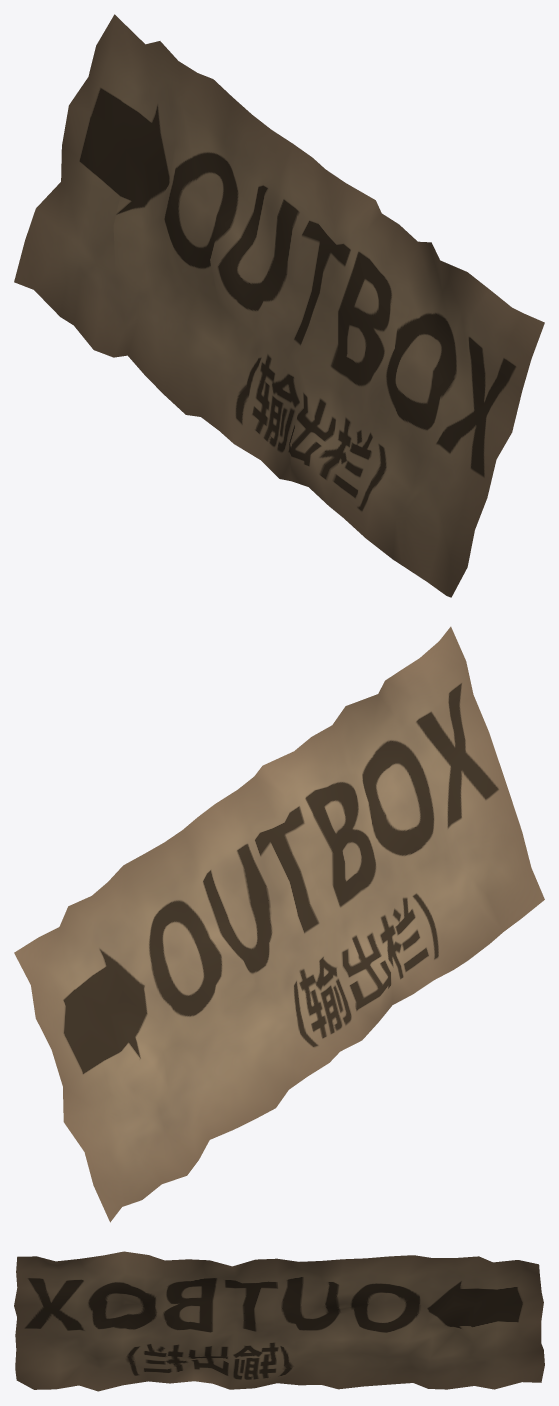
Rendered from DefaultLevel_N_OutBox.fbx.
3 views of the same model, one above another, from view 1: azimuth 30°, elevation 25°; view 2: azimuth 150°, elevation 25°; view 3: azimuth 270°, elevation 25° (orthographic). The views are drawn at different scales.
Parts seen in each view (by area): view 1: DefaultLevel_N_OutBox; view 2: DefaultLevel_N_OutBox; view 3: DefaultLevel_N_OutBox.
Part boxes in pixels (x1,y1,x2,y2): DefaultLevel_N_OutBox: (14,14,544,597); DefaultLevel_N_OutBox: (14,626,544,1222); DefaultLevel_N_OutBox: (14,1251,544,1391).
Size of the model in its own units: 60.93 by 150 by 446.
